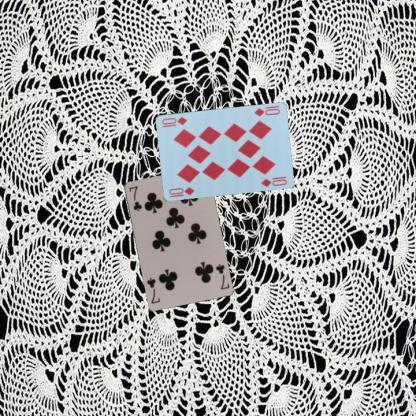10d: (166, 184, 196, 199), (251, 103, 280, 118)
7c: (213, 261, 231, 291), (127, 183, 142, 212)
